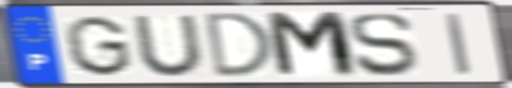D: (203, 10, 277, 81)
G: (61, 13, 136, 78)
I: (442, 10, 474, 78)
M: (261, 10, 363, 81)
S: (346, 11, 419, 78)
U: (129, 13, 210, 79)
